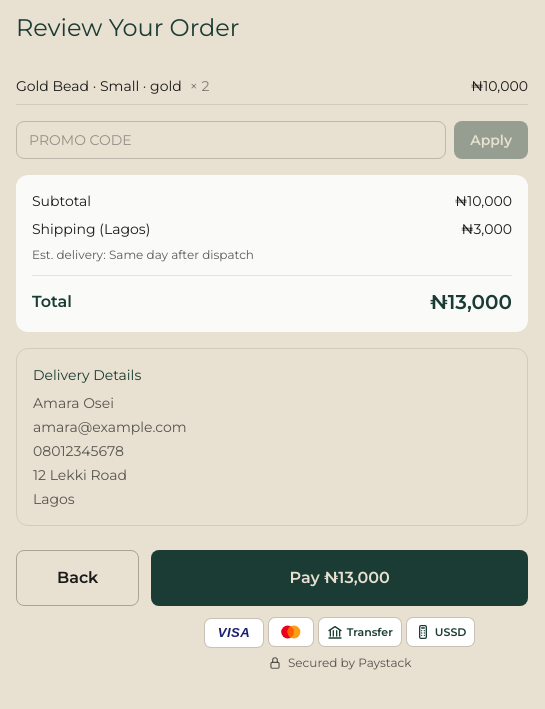
Scenario: OrderReview — promo code (errors) › shows error message for an invalid code
Check: the text "₦3,000" is shown, box [461, 219, 512, 239]
Type "BADCODE" into the field with placeholder "Promo code" at {"x": 231, "y": 140}, box [16, 121, 446, 159]
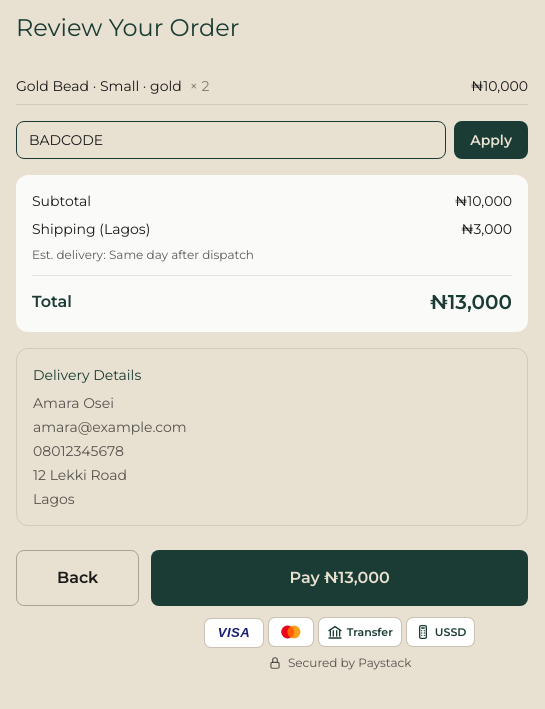
Click the button "Apply" at {"x": 491, "y": 140}, box [454, 121, 528, 159]
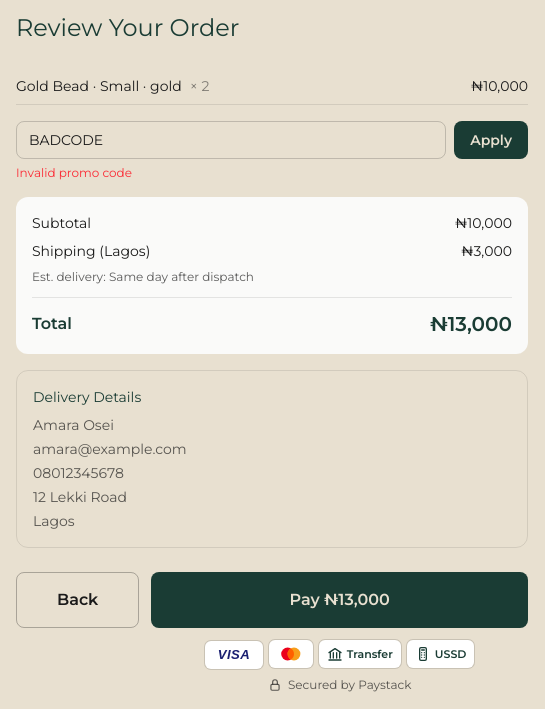
Check: the text "Invalid promo code" is shown, box [16, 165, 132, 180]
